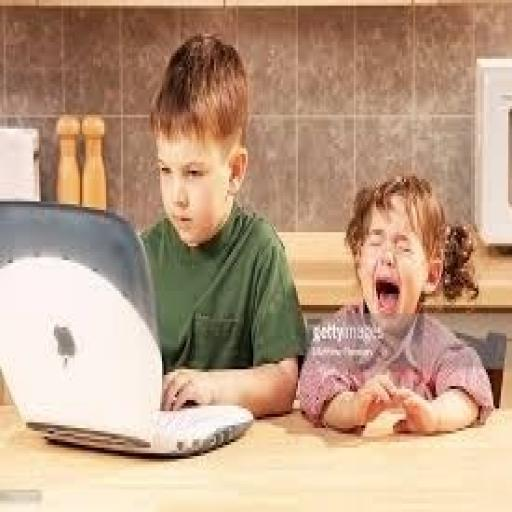using_laptop: (0, 196, 255, 459)
